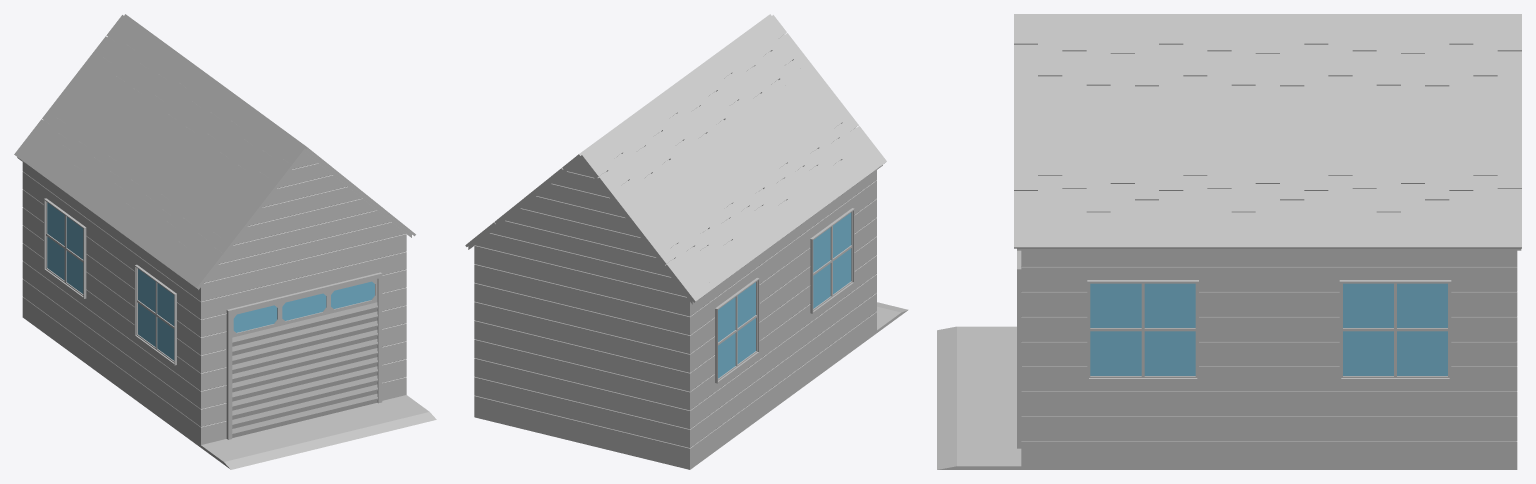
File: Garage_01.gltf
The picture shows the model from 3 angles, left to right: view 1: azimuth 30°, elevation 25°; view 2: azimuth 150°, elevation 25°; view 3: azimuth 270°, elevation 25°; orthographic projection. The views are drawn at different scales.
Parts seen in each view (by area): view 1: Garage_01; view 2: Garage_01; view 3: Garage_01.
Boxes of the visible parts, x1,y1,x2,y2 form: Garage_01: [14, 14, 436, 469]; Garage_01: [465, 14, 908, 469]; Garage_01: [937, 14, 1521, 469].
Size of the model in its own units: 4.28 by 5.15 by 7.09.
